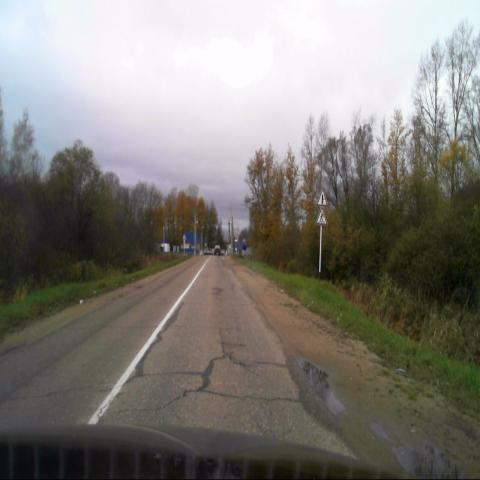1_22: (316, 206, 328, 226)
